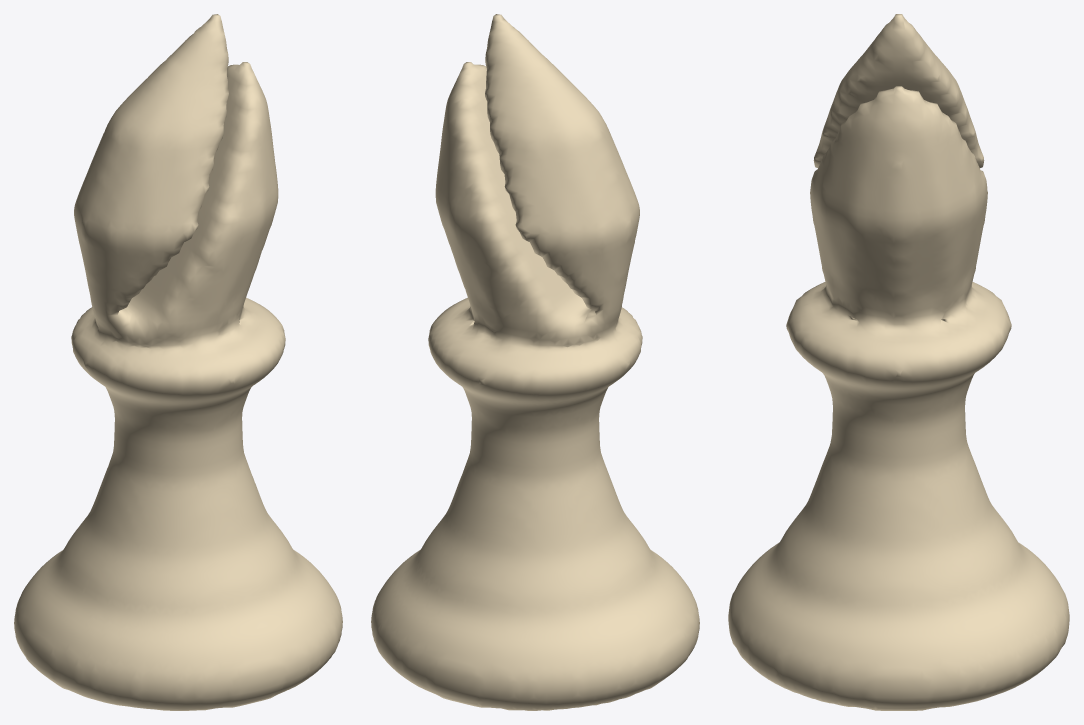
Rendered from KFB_ChessM_bishop_light.r1.glb.
3 renders of one model, left to right at view 1: azimuth 30°, elevation 25°; view 2: azimuth 150°, elevation 25°; view 3: azimuth 270°, elevation 25°, orthographic. The views are drawn at different scales.
Visible parts, largest first — view 1: KFB_ChessM_bishop_light; view 2: KFB_ChessM_bishop_light; view 3: KFB_ChessM_bishop_light.
Part boxes in pixels (left/top/right/bottom): KFB_ChessM_bishop_light: left=14, top=14, right=342, bottom=710; KFB_ChessM_bishop_light: left=371, top=14, right=699, bottom=710; KFB_ChessM_bishop_light: left=728, top=14, right=1069, bottom=710.
Size of the model in its own units: 2 by 4.21 by 2.
